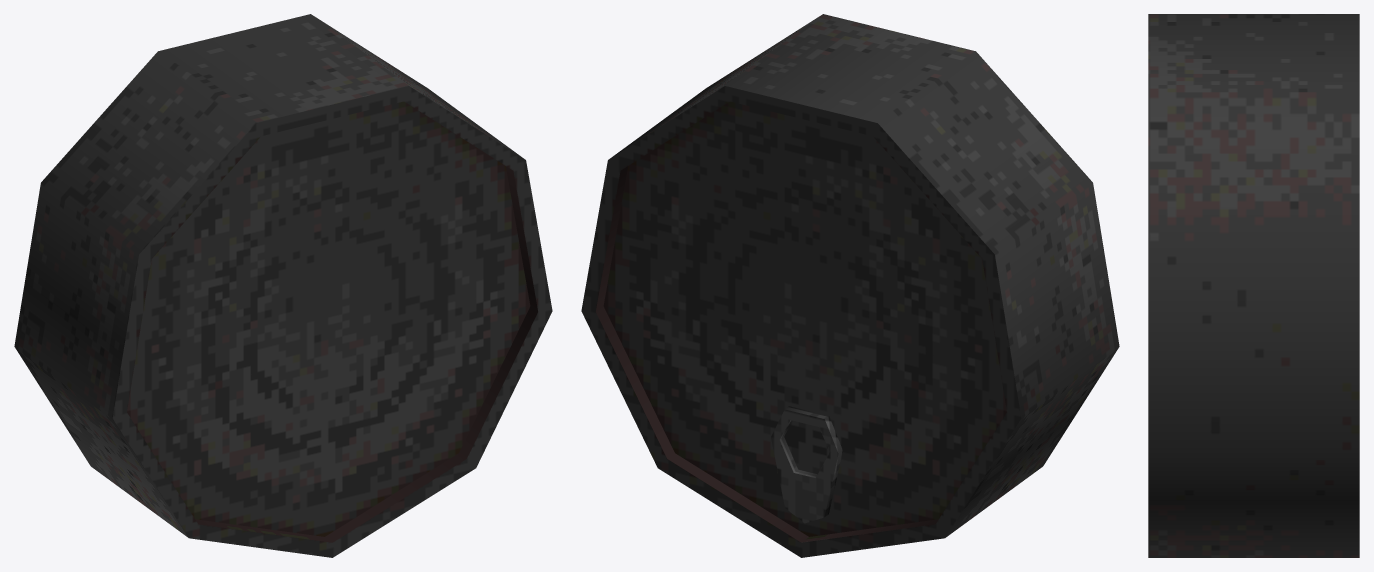
Rendered from BeefCan.fbx.
The picture shows the model from 3 angles, left to right: view 1: azimuth 30°, elevation 25°; view 2: azimuth 150°, elevation 25°; view 3: azimuth 270°, elevation 25°; orthographic projection. The views are drawn at different scales.
Parts seen in each view (by area): view 1: BeefCan; view 2: BeefCan; view 3: BeefCan.
Part boxes in pixels (box(x1,y1,x2,y2)): BeefCan: box(14, 14, 552, 557); BeefCan: box(581, 14, 1119, 557); BeefCan: box(1148, 14, 1359, 557).
Size of the model in its own units: 12.19 by 12 by 4.71.
